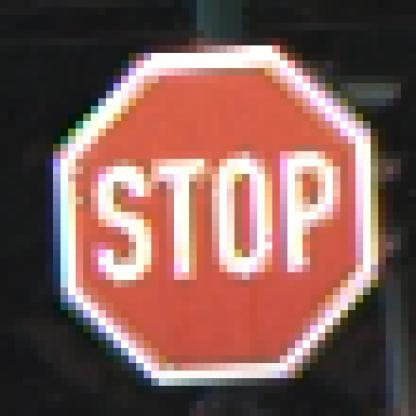Stop: (60, 58, 372, 380)
